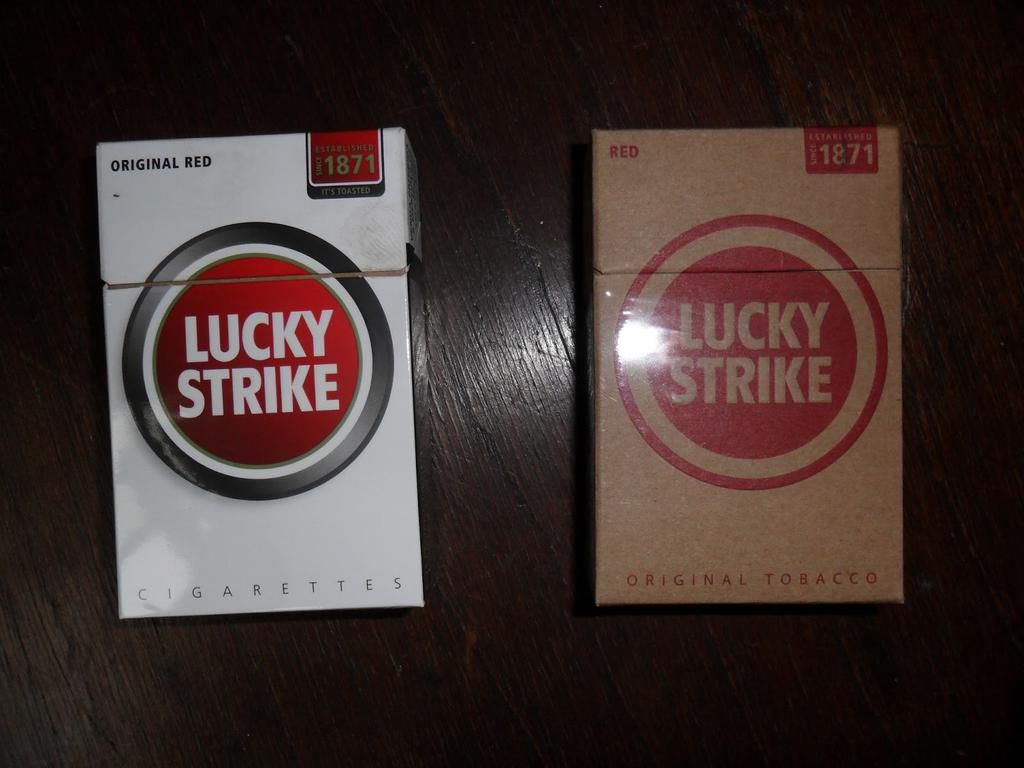lucky_strike_red: (115, 142, 410, 609)
